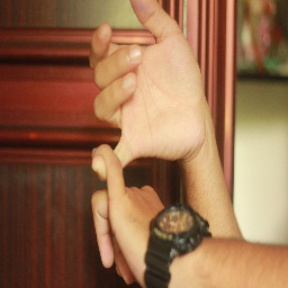S: (79, 2, 211, 288)
